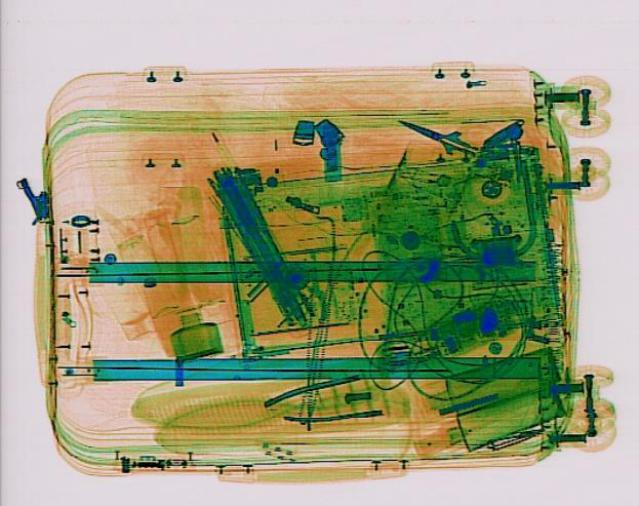Knife: (387, 106, 484, 161)
